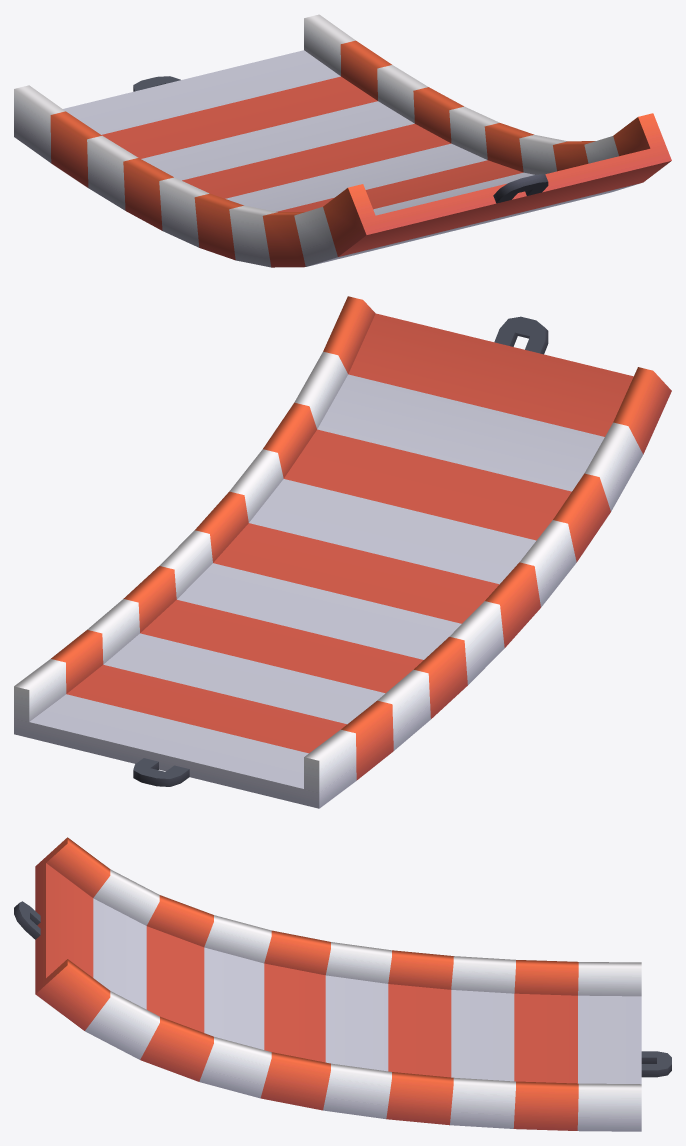
The model's file is track-striped-wide-straight-hill-beginning.glb.
The picture shows the model from 3 angles, top to bottom: view 1: azimuth 30°, elevation 25°; view 2: azimuth 150°, elevation 25°; view 3: azimuth 270°, elevation 25°; orthographic projection. The views are drawn at different scales.
Parts seen in each view (by area): view 1: track-striped-wide-straight-hill-beginning; view 2: track-striped-wide-straight-hill-beginning; view 3: track-striped-wide-straight-hill-beginning.
Boxes of the visible parts, x1,y1,x2,y2 form: track-striped-wide-straight-hill-beginning: (14,14,671,267); track-striped-wide-straight-hill-beginning: (14,296,671,808); track-striped-wide-straight-hill-beginning: (14,837,671,1131).
Bounding box in the file's own units: 2 × 1.21 × 4.34.
1 material, 1 textured.
